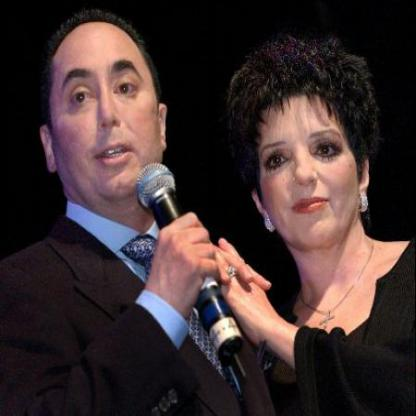face: (45, 8, 160, 203), (251, 61, 360, 252)
